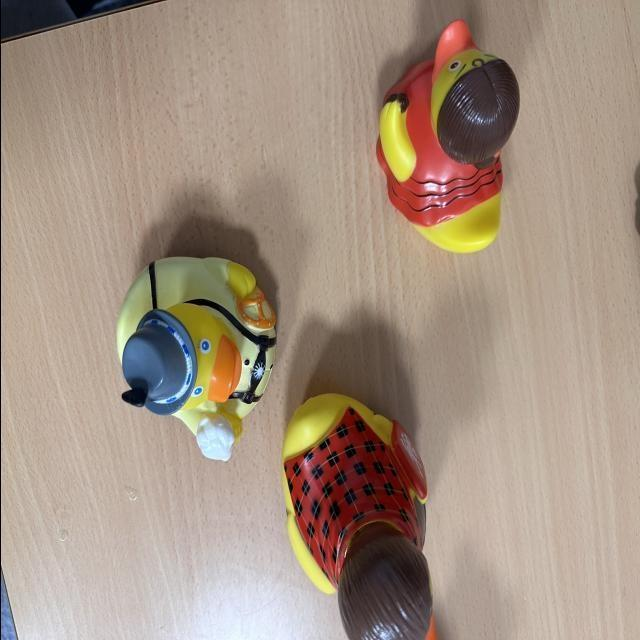rubber-duck: (281, 393, 434, 638), (376, 19, 517, 251), (116, 256, 274, 459)
